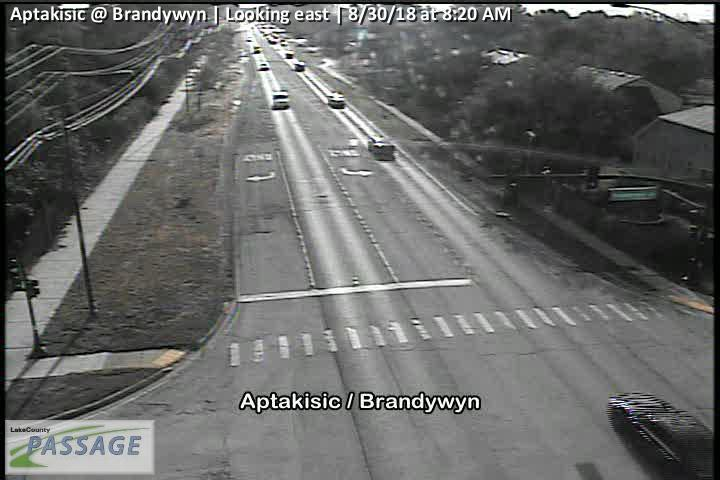Sedan: (609, 389, 720, 480)
